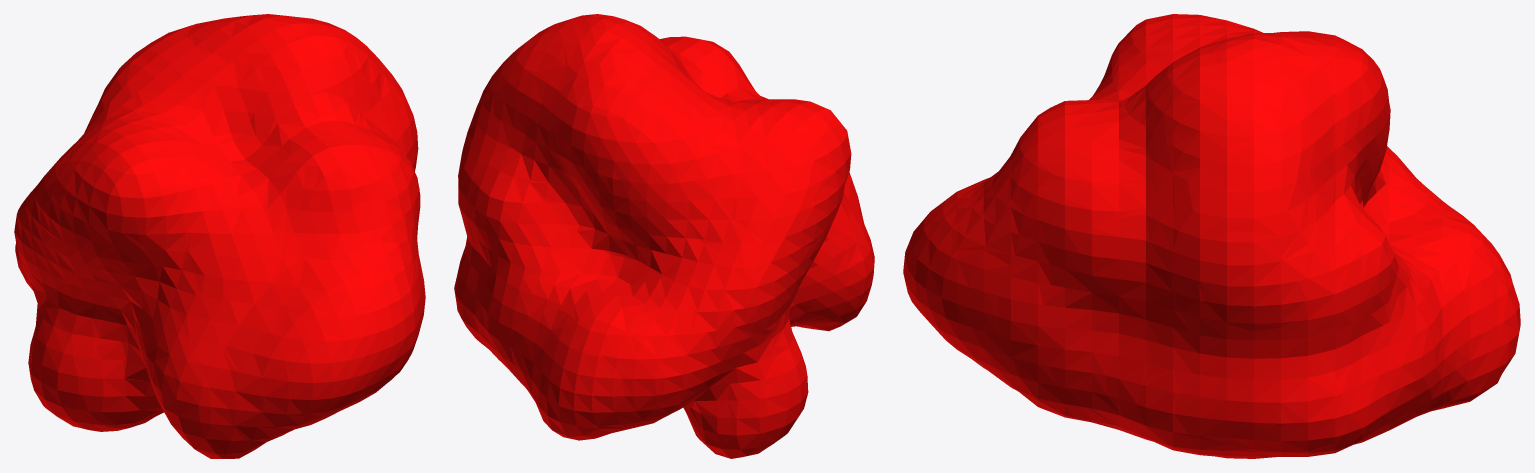
The model's file is msyB_coarse.dae.
3 views of the same model, side by side, from view 1: azimuth 30°, elevation 25°; view 2: azimuth 150°, elevation 25°; view 3: azimuth 270°, elevation 25° (orthographic). The views are drawn at different scales.
Visible parts, largest first — view 1: msyB; view 2: msyB; view 3: msyB.
Part boxes in pixels (bbox=[...]): msyB: bbox=[14, 14, 425, 458]; msyB: bbox=[454, 14, 874, 458]; msyB: bbox=[903, 14, 1520, 458].
Bounding box in the file's own units: 36.18 × 37.12 × 46.97.
